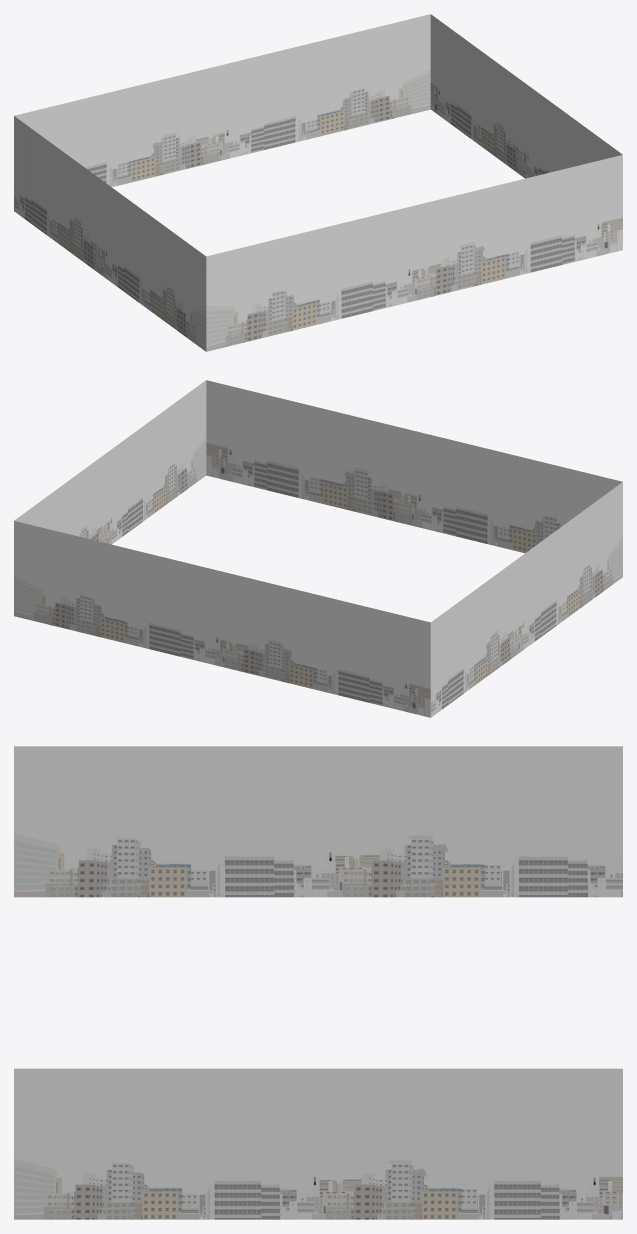
File: citydoom.fbx
3 renders of one model, top to bottom at view 1: azimuth 30°, elevation 25°; view 2: azimuth 150°, elevation 25°; view 3: azimuth 270°, elevation 25°, orthographic. The views are drawn at different scales.
Parts seen in each view (by area): view 1: citydoom; view 2: citydoom; view 3: citydoom.
Part boxes in pixels (box(x1,y1,x2,y2)): citydoom: box(14, 14, 622, 351); citydoom: box(14, 380, 622, 717); citydoom: box(14, 746, 622, 1219).
Size of the model in its own units: 689 by 151 by 550.
Materials: 1 (1 with a texture image).
